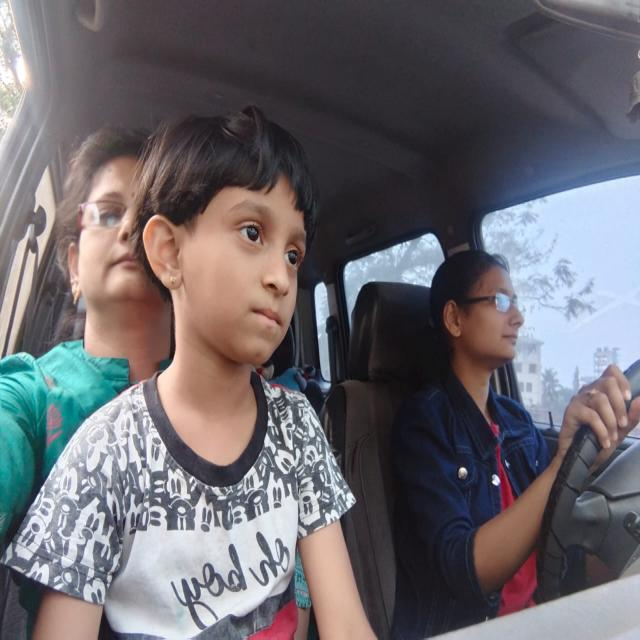person: (141, 123, 313, 369), (61, 137, 165, 310), (428, 249, 526, 364)
